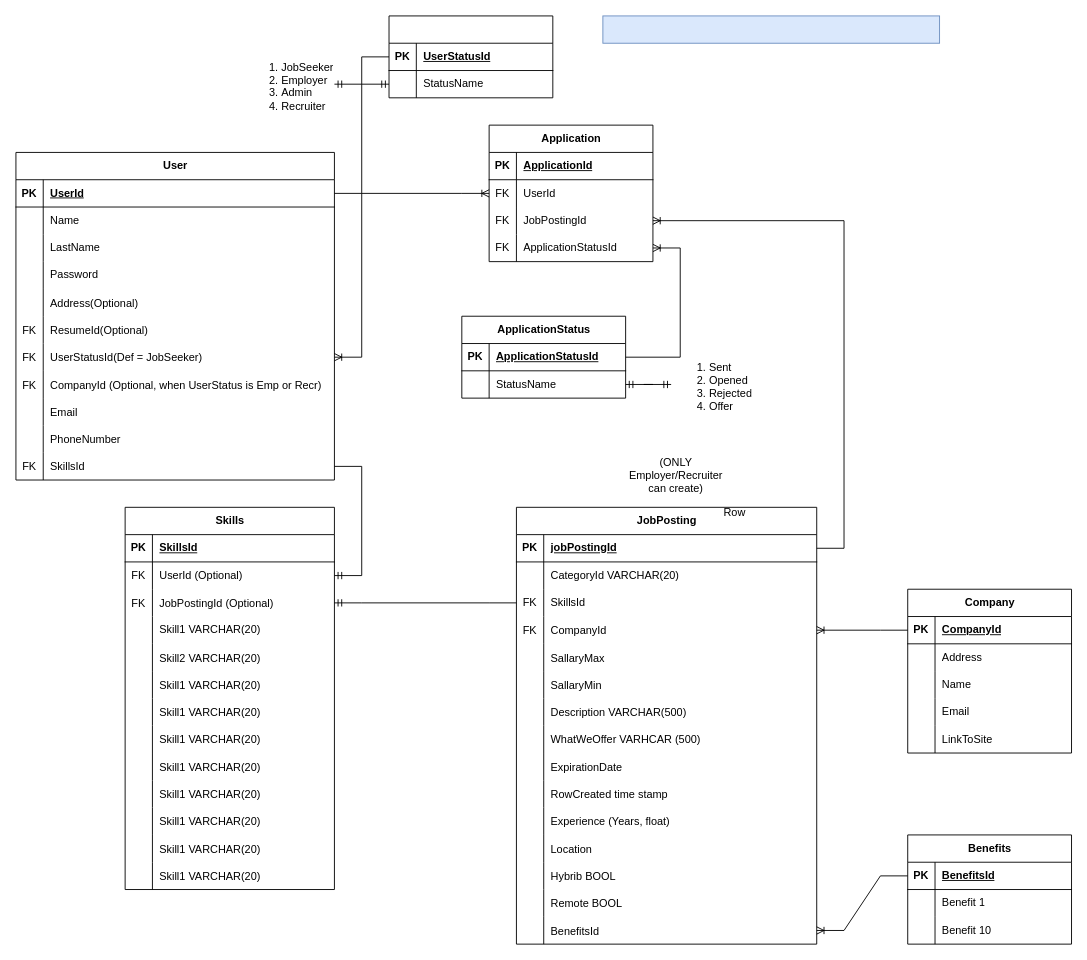
Image size: 1087x960. Some labels were removed from this diagram. The shapes that lost their labels are listed below. From the top down, each one's box as (x1, y1, x2, y2) in pixels, then its label:
(602, 15, 940, 43): JOB ANNOUNCMENT DATABASE ARCHITECTURE DIAGRAM
(388, 15, 553, 98): UserStatus(ENUM)
